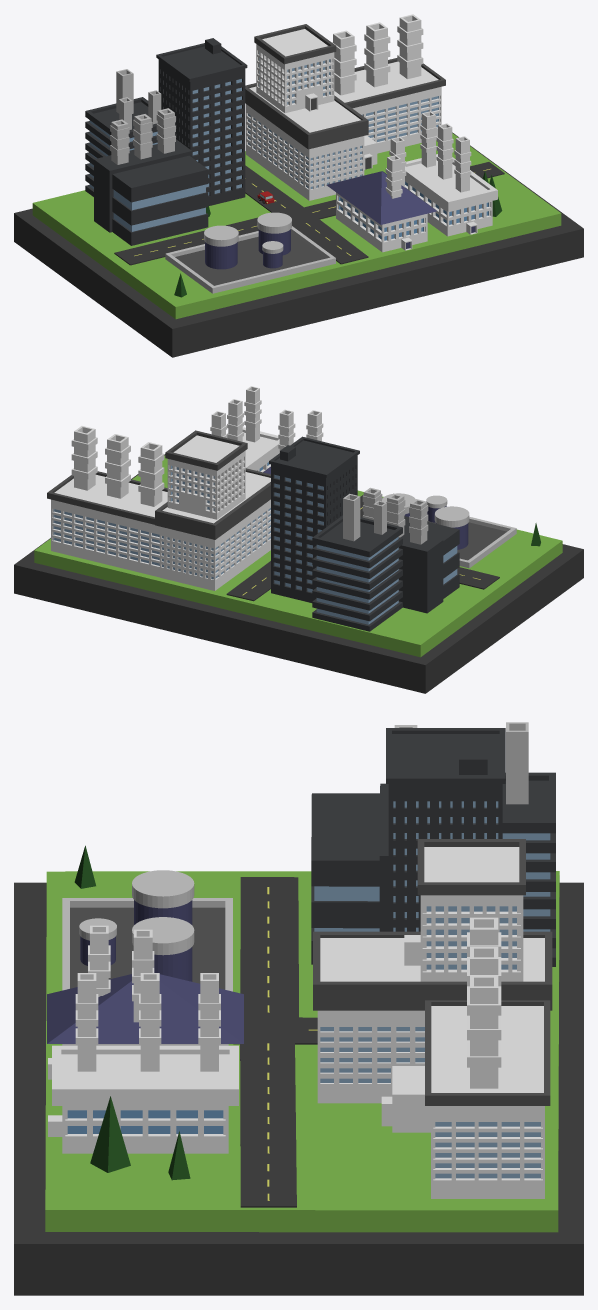
3 renders of one model, top to bottom at view 1: azimuth 30°, elevation 25°; view 2: azimuth 150°, elevation 25°; view 3: azimuth 270°, elevation 25°, orthographic. The views are drawn at different scales.
Parts seen in each view (by area): view 1: Under_land, Cube (×5), Cap_2 (×2), Cube.1 (×5), Cube.4 (×3), Land, Cube.6 (×2), Cube.10 (×5), Cube.2 (×2), Pyramid, Cube.5 (×2), Cube.7 (+7 smaller); view 2: Under_land, Cube (×5), Cube.1 (×4), Cap_2 (×2), Cube.4 (×4), Land, Cube.6 (×3), Cube.5 (×2), Cube.10 (×5), Cube.7 (×3), Cube.8, Cube.3 (+3 smaller); view 3: Cap_2 (×2), Under_land, Cube (×4), Cube.4 (×3), Cube.1 (×5), Land, Cube.5, Cube.10 (×7), Cube.2 (×2), Cube.6 (×2), Pyramid, Cube.7 (+7 smaller).
Part boxes in pixels (x1,y1,x2,y2): Under_land: [14, 132, 583, 357]; Cube (×5): [112, 59, 441, 293]; Cap_2 (×2): [33, 133, 560, 306]; Cube.1 (×5): [85, 43, 364, 225]; Cube.4 (×3): [94, 83, 497, 232]; Land: [32, 203, 561, 319]; Cube.6 (×2): [256, 30, 354, 113]; Cube.10 (×5): [366, 14, 469, 192]; Cube.2 (×2): [112, 180, 492, 245]; Pyramid: [326, 171, 436, 224]; Cube.5 (×2): [157, 58, 445, 153]; Cube.7: [254, 24, 336, 64]; Under_land: [14, 454, 583, 693]; Cube (×5): [51, 455, 516, 602]; Cube.1 (×4): [160, 436, 402, 590]; Cap_2 (×2): [34, 455, 561, 644]; Cube.4 (×4): [155, 427, 443, 613]; Land: [34, 541, 562, 657]; Cube.6 (×3): [140, 442, 402, 621]; Cube.5 (×2): [47, 471, 402, 610]; Cube.10 (×5): [74, 386, 293, 498]; Cube.7 (×3): [165, 430, 402, 631]; Cube.8: [316, 536, 398, 624]; Cube.3: [312, 559, 402, 589]; Cap_2 (×2): [45, 871, 559, 1210]; Under_land: [14, 882, 583, 1295]; Cube (×4): [62, 784, 544, 1198]; Cube.4 (×3): [52, 783, 552, 1105]; Cube.1 (×5): [311, 722, 555, 1103]; Land: [45, 875, 559, 1232]; Cube.5: [425, 1000, 550, 1105]; Cube.10 (×7): [77, 925, 498, 1088]; Cube.2 (×2): [62, 1066, 430, 1153]; Cube.6 (×2): [420, 895, 523, 981]; Pyramid: [47, 974, 243, 1043]; Cube.7: [417, 839, 525, 895].
Size of the model in its own units: 1500 by 632 by 1000.
